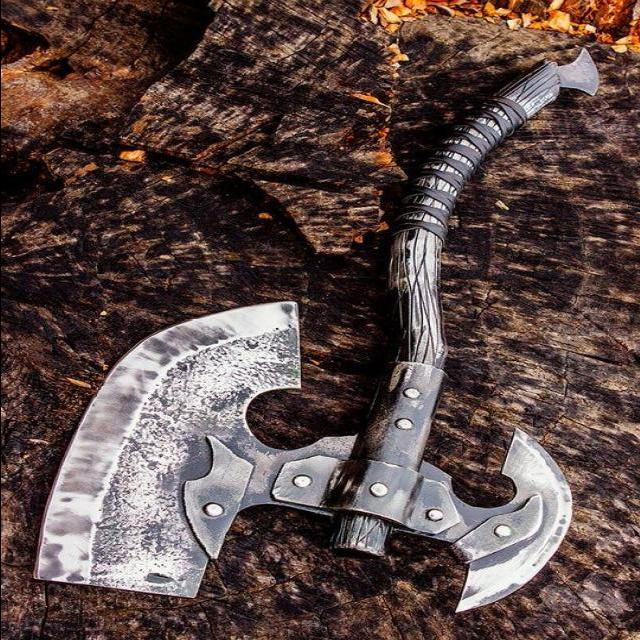axe: (30, 46, 598, 614)
